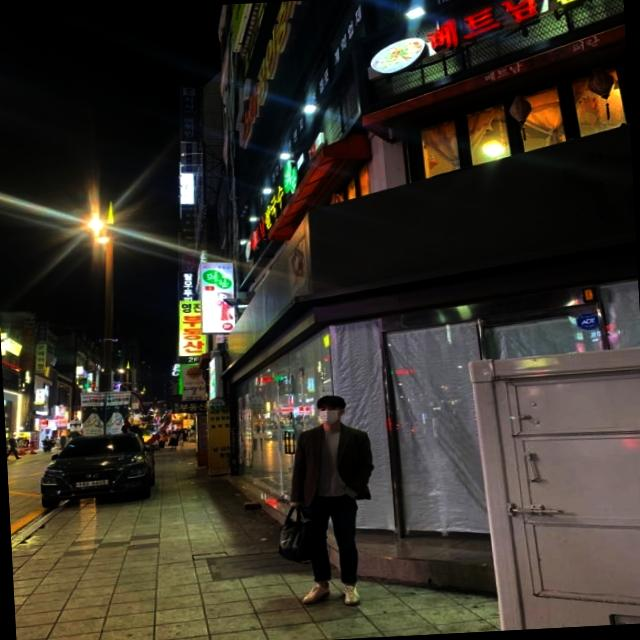blazer: (284, 420, 376, 512)
denimpants: (299, 490, 362, 584)
